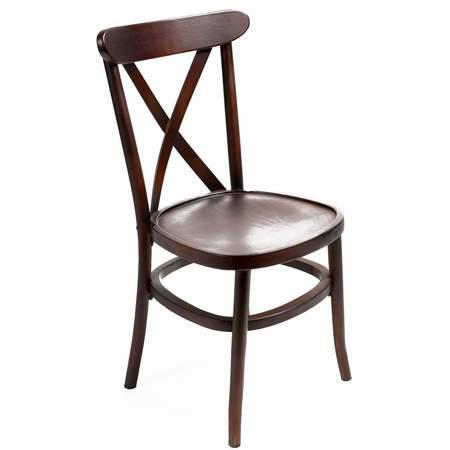chair: (80, 9, 401, 448)
